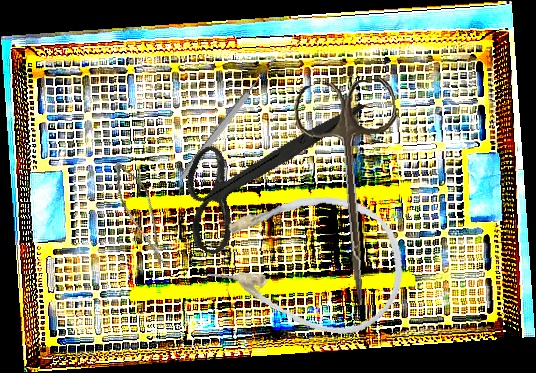Cannula: (199, 178, 415, 343)
Iris Scissors: (162, 51, 365, 287), (292, 76, 416, 311)
Micro Scissor: (96, 158, 190, 270)
Surgical Spoon: (178, 56, 279, 181)
